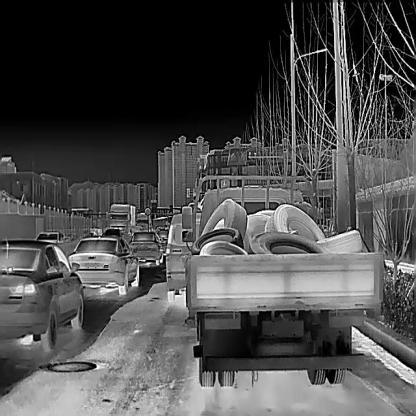car: (180, 171, 386, 387), (0, 235, 84, 352), (64, 232, 140, 294), (164, 210, 207, 303), (126, 228, 163, 267), (107, 201, 137, 230), (35, 230, 64, 243), (99, 227, 123, 238), (102, 226, 121, 236)
